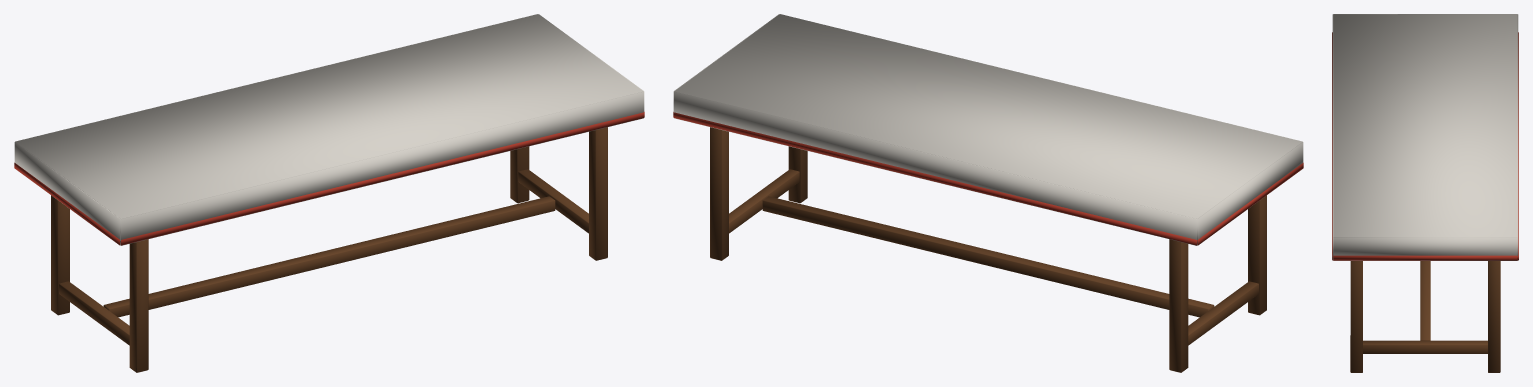
File: ban_dai.glb
3 renders of one model, left to right at view 1: azimuth 30°, elevation 25°; view 2: azimuth 150°, elevation 25°; view 3: azimuth 270°, elevation 25°, orthographic. The views are drawn at different scales.
Visible parts, largest first — view 1: ban_dai; view 2: ban_dai; view 3: ban_dai.
Part boxes in pixels (x1,y1,x2,y2): ban_dai: (14, 14, 644, 372); ban_dai: (673, 14, 1303, 372); ban_dai: (1332, 14, 1518, 372).
Size of the model in its own units: 2.47 by 0.7548 by 0.8694.
